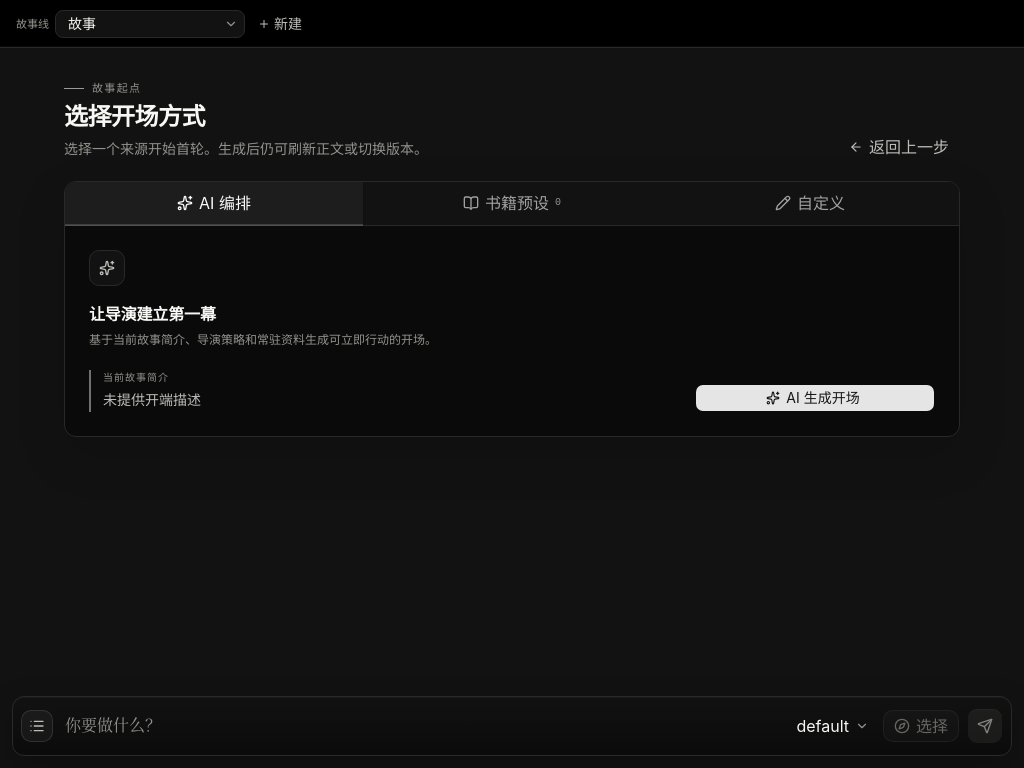
Test case: StoryStage composer › shows a temporary public rule roll card from the streaming tool result
Type "强行闯入藏书阁" into the field with placeholder "你要做什么？". click: (422, 726)
box: [65,714,778,738]
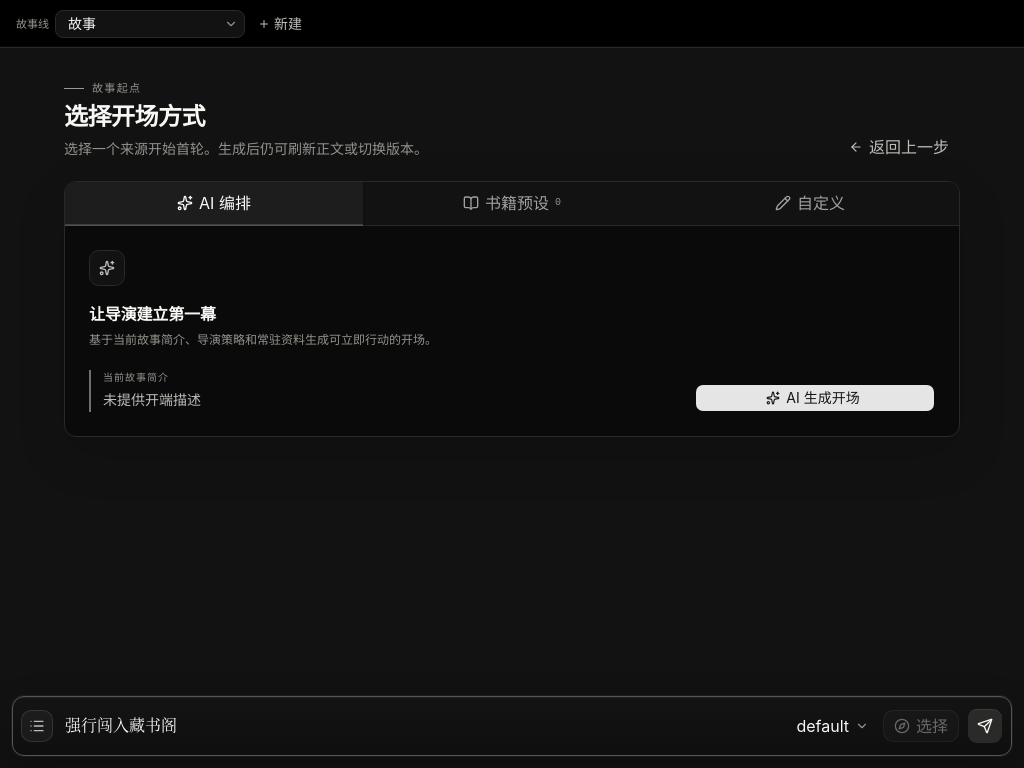
Click the button named "发送". click: (985, 726)
box: [967,708,1003,744]
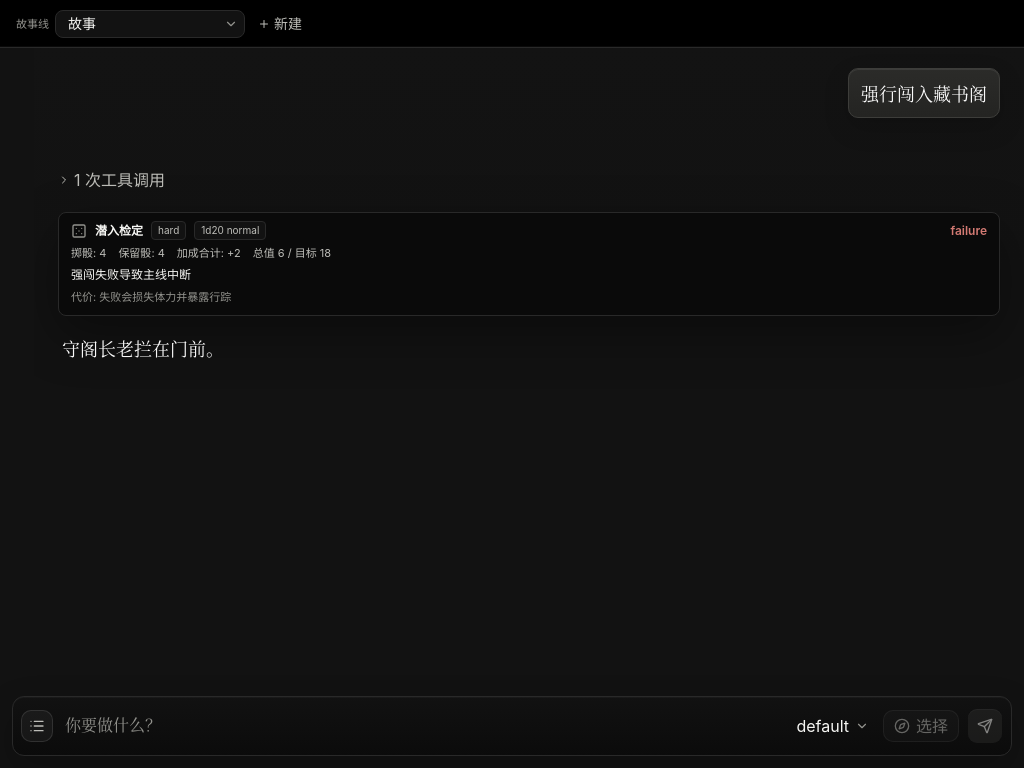
Expected: the text "潜入检定" is shown, [95,223,143,239]
Expected: the text "总值 6 / 目标 18" is shown, [253,246,331,261]
Expected: the text "强闯失败导致主线中断" is shown, [71,267,191,282]
